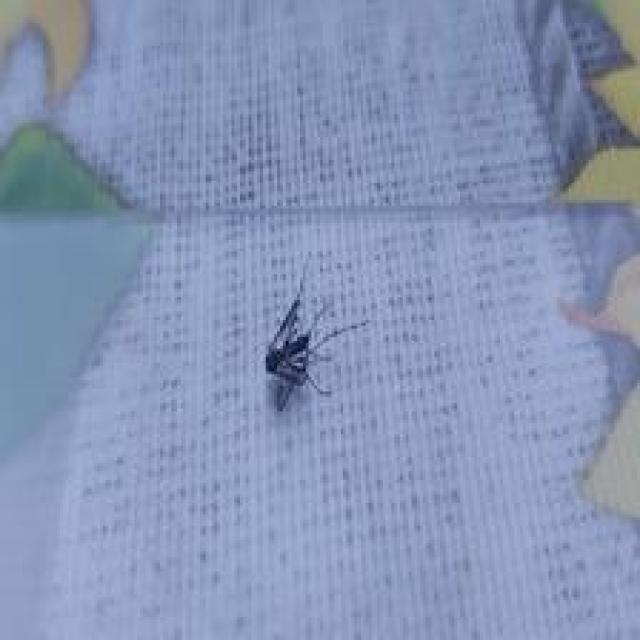Aedes albopictus: (262, 250, 367, 413)
